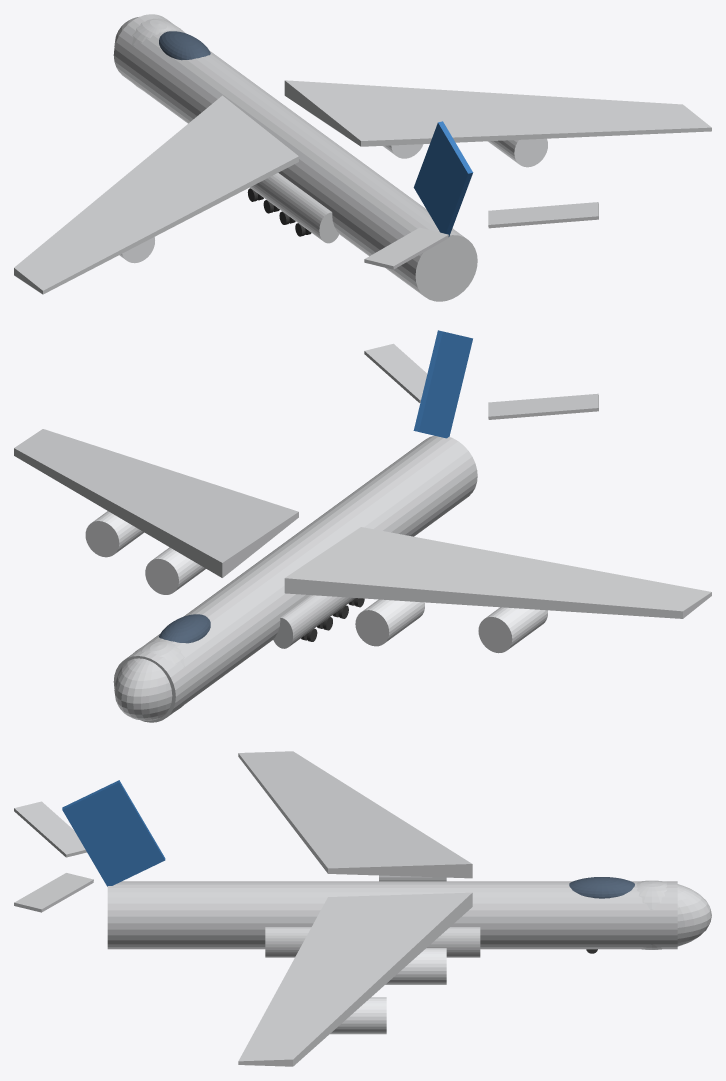
Rendered from an124_ruslan.glb.
3 renders of one model, top to bottom at view 1: azimuth 30°, elevation 25°; view 2: azimuth 150°, elevation 25°; view 3: azimuth 270°, elevation 25°, orthographic. The views are drawn at different scales.
Parts seen in each view (by area): view 1: An124_Fuselage, An124_Wing_L, An124_Wing_R, An124_Vertical_Fin, An124_Sponson_L, An124_HTail_R, An124_HTail_L, An124_Engine_1_21.5, An124_Cockpit, An124_Nose, An124_Engine_-1_21.5; view 2: An124_Fuselage, An124_Wing_L, An124_Wing_R, An124_Vertical_Fin, An124_Nose, An124_Engine_-1_11.5, An124_Engine_-1_21.5, An124_HTail_L, An124_Sponson_L, An124_Engine_1_11.5, An124_HTail_R, An124_Engine_1_21.5 (+1 smaller); view 3: An124_Fuselage, An124_Wing_R, An124_Wing_L, An124_Vertical_Fin, An124_Sponson_R, An124_Nose, An124_HTail_L, An124_Engine_1_11.5, An124_HTail_R, An124_Engine_1_21.5, An124_Cockpit.
Boxes of the visible parts, x1,y1,x2,y2 form: An124_Fuselage: (113,14,477,301); An124_Wing_L: (14,95,298,294); An124_Wing_R: (284,80,711,146); An124_Vertical_Fin: (413,121,473,236); An124_Sponson_L: (250,173,339,243); An124_HTail_R: (488,202,598,228); An124_HTail_L: (364,227,448,269); An124_Engine_1_21.5: (488,138,547,167); An124_Cockpit: (159,31,210,60); An124_Nose: (114,17,183,88); An124_Engine_-1_21.5: (119,237,154,263); An124_Fuselage: (113,435,477,722); An124_Wing_L: (284,527,711,618); An124_Wing_R: (14,429,298,577); An124_Vertical_Fin: (413,330,472,438); An124_Nose: (114,640,184,720); An124_Engine_-1_11.5: (355,599,424,646); An124_Engine_-1_21.5: (478,607,547,653); An124_HTail_L: (488,393,598,419); An124_Sponson_L: (273,595,355,648); An124_Engine_1_11.5: (145,547,205,594); An124_HTail_R: (364,343,427,402); An124_Engine_1_21.5: (85,511,144,557); An124_Fuselage: (107,881,677,949); An124_Wing_R: (238,892,472,1066); An124_Wing_L: (238,751,472,878); An124_Vertical_Fin: (62,780,165,886); An124_Sponson_R: (265,927,480,957); An124_Nose: (636,880,711,949); An124_HTail_L: (14,801,86,857); An124_Engine_1_11.5: (385,948,446,984); An124_HTail_R: (14,873,93,912); An124_Engine_1_21.5: (330,997,386,1034); An124_Cockpit: (569,877,634,898).
Bounding box in the file's own units: 73.2 × 18.8 × 70.04.
